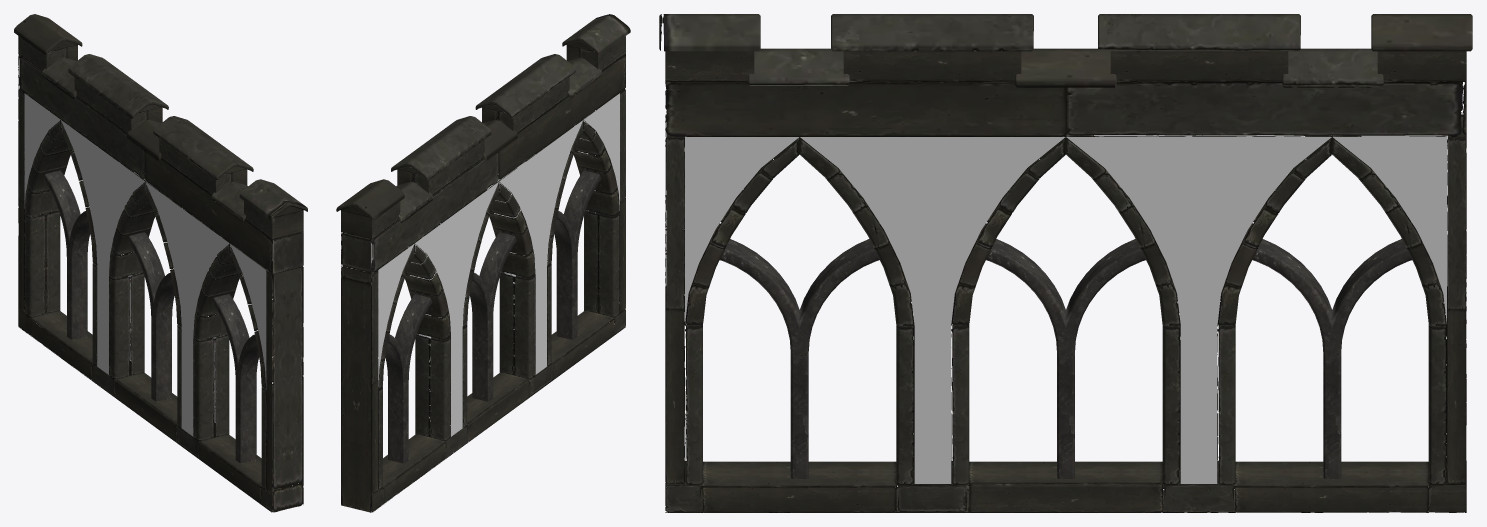
3 views of the same model, side by side, from view 1: azimuth 30°, elevation 25°; view 2: azimuth 150°, elevation 25°; view 3: azimuth 270°, elevation 25° (orthographic). The views are drawn at different scales.
Parts seen in each view (by area): view 1: SM_Greathall_Wall_Top_8x6_03_LOD0; view 2: SM_Greathall_Wall_Top_8x6_03_LOD0; view 3: SM_Greathall_Wall_Top_8x6_03_LOD0.
Boxes of the visible parts, bbox=[...] form: SM_Greathall_Wall_Top_8x6_03_LOD0: bbox=[14, 14, 307, 512]; SM_Greathall_Wall_Top_8x6_03_LOD0: bbox=[336, 14, 630, 512]; SM_Greathall_Wall_Top_8x6_03_LOD0: bbox=[659, 14, 1472, 512].
Size of the model in its own units: 0.6086 by 4.81 by 7.31.
Materials: 3 (2 with a texture image).
